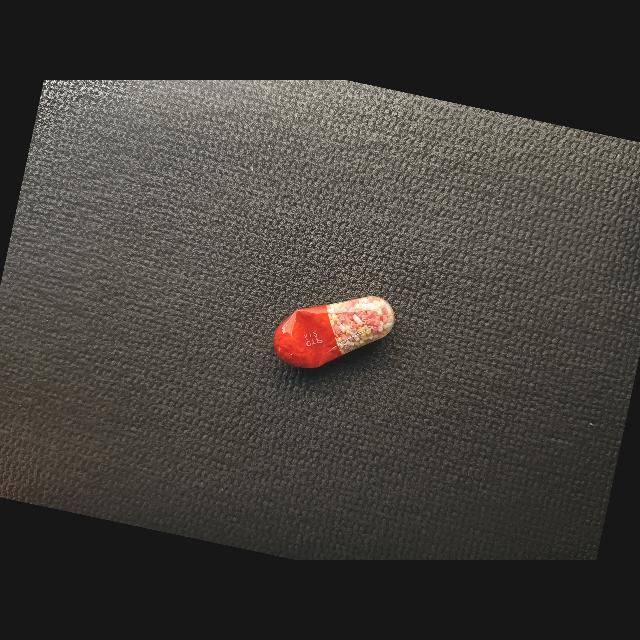Defective Capsule: (274, 296, 395, 368)
